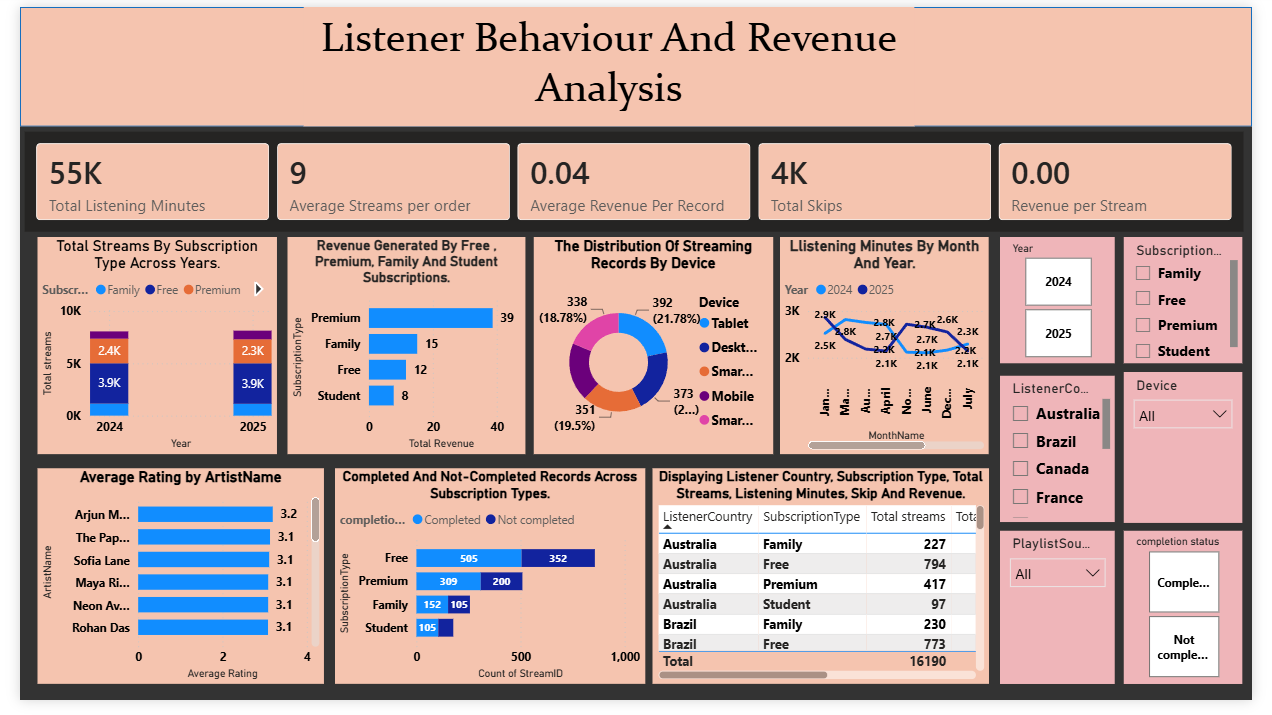

The page's visual inventory and layout, read from the dashboard file:
{"tool":"powerbi","page":{"name":"Dashboard Page 2 — Listener Behaviour and Revenue Analysis","canvas":[1280,720],"ordinal":1},"visuals":[{"type":"shape","box":[0,0,1280,124.3],"z":0},{"type":"textbox","box":[294.3,0,634.3,124.3],"z":1000},{"type":"cardVisual","fields":{"Data":["Music_Streams.Total Listening Minutes","Music_Streams.Average Streams per order","Music_Streams.Average Revenue Per Record","Music_Streams.Total Skips","Music_Streams.Revenue per Stream"]},"box":[0,124.3,1280,114.3],"z":2000},{"type":"columnChart","title":"Total Streams By Subscription Type Across Years.","fields":{"Category":["Date.Year"],"Y":["Music_Streams.Total streams"],"Series":["Music_Streams.SubscriptionType"]},"box":[18.1,238.9,248.5,225.6],"z":3000},{"type":"barChart","title":"Revenue Generated By Free , Premium, Family And Student Subscriptions.","fields":{"Y":["Music_Streams.Total Revenue"],"Category":["Music_Streams.SubscriptionType"]},"box":[277.5,238.9,247.3,225.6],"z":4000},{"type":"donutChart","title":"The Distribution Of Streaming Records By Device","fields":{"Category":["Music_Streams.Device"],"Y":["CountNonNull(Music_Streams.StreamID)"]},"box":[533.2,238.9,248.5,225.6],"z":5000},{"type":"lineChart","title":"Llistening Minutes By Month And Year.","fields":{"Y":["Music_Streams.Total Listening Minutes"],"Category":["Date.MonthName"],"Series":["Date.Year"]},"box":[790.2,238.9,217.2,225.6],"z":6000},{"type":"clusteredBarChart","fields":{"Category":["Artist.ArtistName"],"Y":["Music_Streams.Average Rating"]},"box":[18.1,479,298,224.4],"z":7000},{"type":"barChart","title":"Completed And Not-Completed Records Across Subscription Types.","fields":{"Series":["Music_Streams.completion status"],"Category":["Music_Streams.SubscriptionType"],"Y":["CountNonNull(Music_Streams.StreamID)"]},"box":[326.9,479,322.1,224.4],"z":8000},{"type":"tableEx","title":"Displaying Listener Country, Subscription Type, Total Streams, Listening Minutes, Skip And Revenue.","fields":{"Values":["Music_Streams.ListenerCountry","Music_Streams.SubscriptionType","Music_Streams.Total streams","Music_Streams.Total Listening Minutes","Music_Streams.Total Skips","Music_Streams.Total Revenue"]},"box":[657.5,479,349.9,224.4],"z":9000},{"type":"slicer","fields":{"Values":["Date.Year"]},"box":[1018.2,238.9,119.4,131.5],"z":10000},{"type":"slicer","fields":{"Values":["Music_Streams.SubscriptionType"]},"box":[1146.1,238.9,123.1,131.5],"z":11000},{"type":"slicer","fields":{"Values":["Music_Streams.ListenerCountry"]},"box":[1018.2,383.6,119.4,152],"z":12000},{"type":"slicer","fields":{"Values":["Music_Streams.Device"]},"box":[1146.1,378.8,123.1,156.8],"z":13000},{"type":"slicer","fields":{"Values":["Music_Streams.PlaylistSource"]},"box":[1018.2,544.1,119.4,159.3],"z":14000},{"type":"slicer","fields":{"Values":["Music_Streams.completion status"]},"box":[1146.1,544.1,123.1,159.3],"z":15000}]}

Visuals, with their boxes in screenshot pixels (x1, y1, x2, y2), scaled from the page's 1280x720 canvas onto the 1272x715 screenshot:
shape: box=[0, 0, 1271, 123]
textbox: box=[292, 0, 923, 123]
cardVisual - Music_Streams.Total Listening Minutes x Music_Streams.Average Streams per order: box=[0, 123, 1271, 237]
"Total Streams By Subscription Type Across Years." columnChart: box=[18, 237, 265, 461]
"Revenue Generated By Free , Premium, Family And Student Subscriptions." barChart: box=[276, 237, 522, 461]
"The Distribution Of Streaming Records By Device" donutChart: box=[530, 237, 777, 461]
"Llistening Minutes By Month And Year." lineChart: box=[785, 237, 1001, 461]
clusteredBarChart - Artist.ArtistName x Music_Streams.Average Rating: box=[18, 476, 314, 699]
"Completed And Not-Completed Records Across Subscription Types." barChart: box=[325, 476, 645, 699]
"Displaying Listener Country, Subscription Type, Total Streams, Listening Minutes, Skip And Revenue." tableEx: box=[653, 476, 1001, 699]
slicer - Date.Year: box=[1012, 237, 1130, 368]
slicer - Music_Streams.SubscriptionType: box=[1139, 237, 1261, 368]
slicer - Music_Streams.ListenerCountry: box=[1012, 381, 1130, 532]
slicer - Music_Streams.Device: box=[1139, 376, 1261, 532]
slicer - Music_Streams.PlaylistSource: box=[1012, 540, 1130, 699]
slicer - Music_Streams.completion status: box=[1139, 540, 1261, 699]
